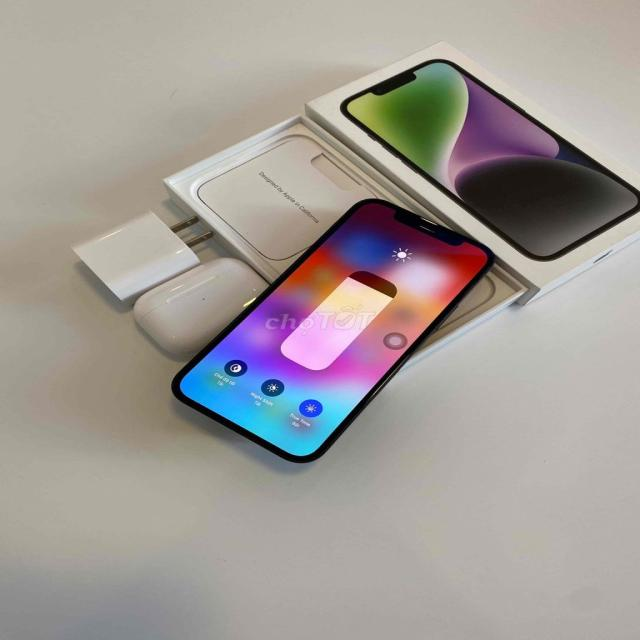gen_12_13: (167, 195, 493, 466)
